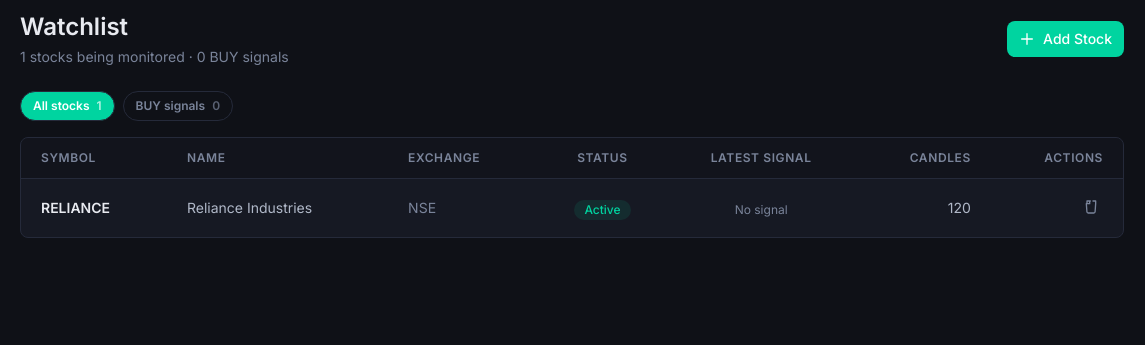
Test: WatchlistView — mutation failures › restores the active state when toggle fails and exposes a contextual error
Step 1. Click the button "Active" → {"x": 602, "y": 210}, box [574,200,631,220]
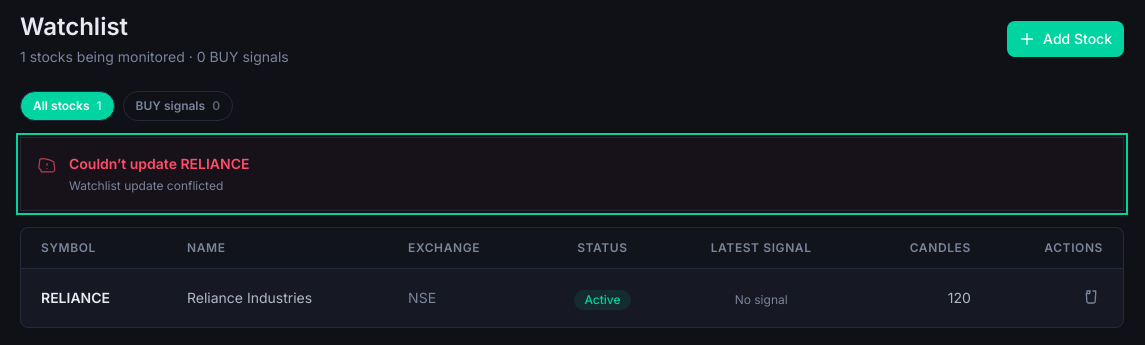
Expected: the button "Active" is shown, [574,290,631,310]
Result: the message "Couldn’t update RELIANCE Watchlist update conflicted" is shown at [20,137,1124,211]
